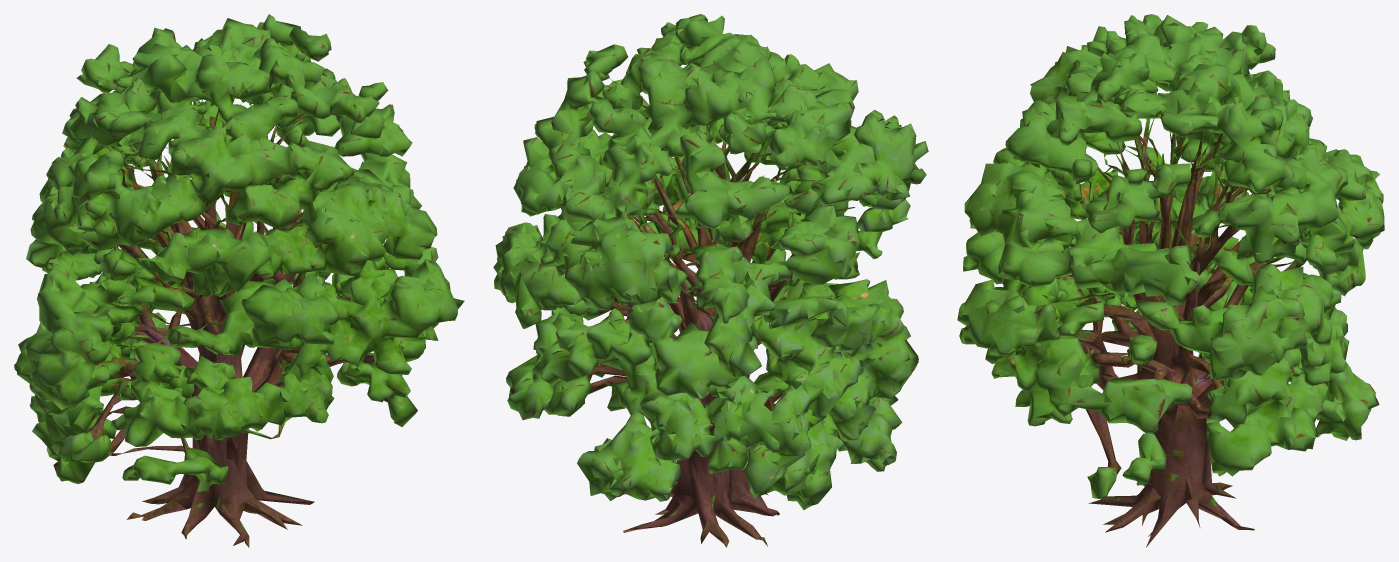
The model's file is mature-temperate-oak-meshy6-r1-production-lod-optimized.glb.
3 views of the same model, side by side, from view 1: azimuth 30°, elevation 25°; view 2: azimuth 150°, elevation 25°; view 3: azimuth 270°, elevation 25° (orthographic).
Visible parts, largest first — view 1: Mesh_0.001; view 2: Mesh_0.001; view 3: Mesh_0.001.
Boxes of the visible parts, x1,y1,x2,y2 form: Mesh_0.001: (14,14,464,547); Mesh_0.001: (493,14,928,547); Mesh_0.001: (957,14,1384,547).
Bounding box in the file's own units: 8.19 × 10 × 8.17.
1 material, 1 textured.
